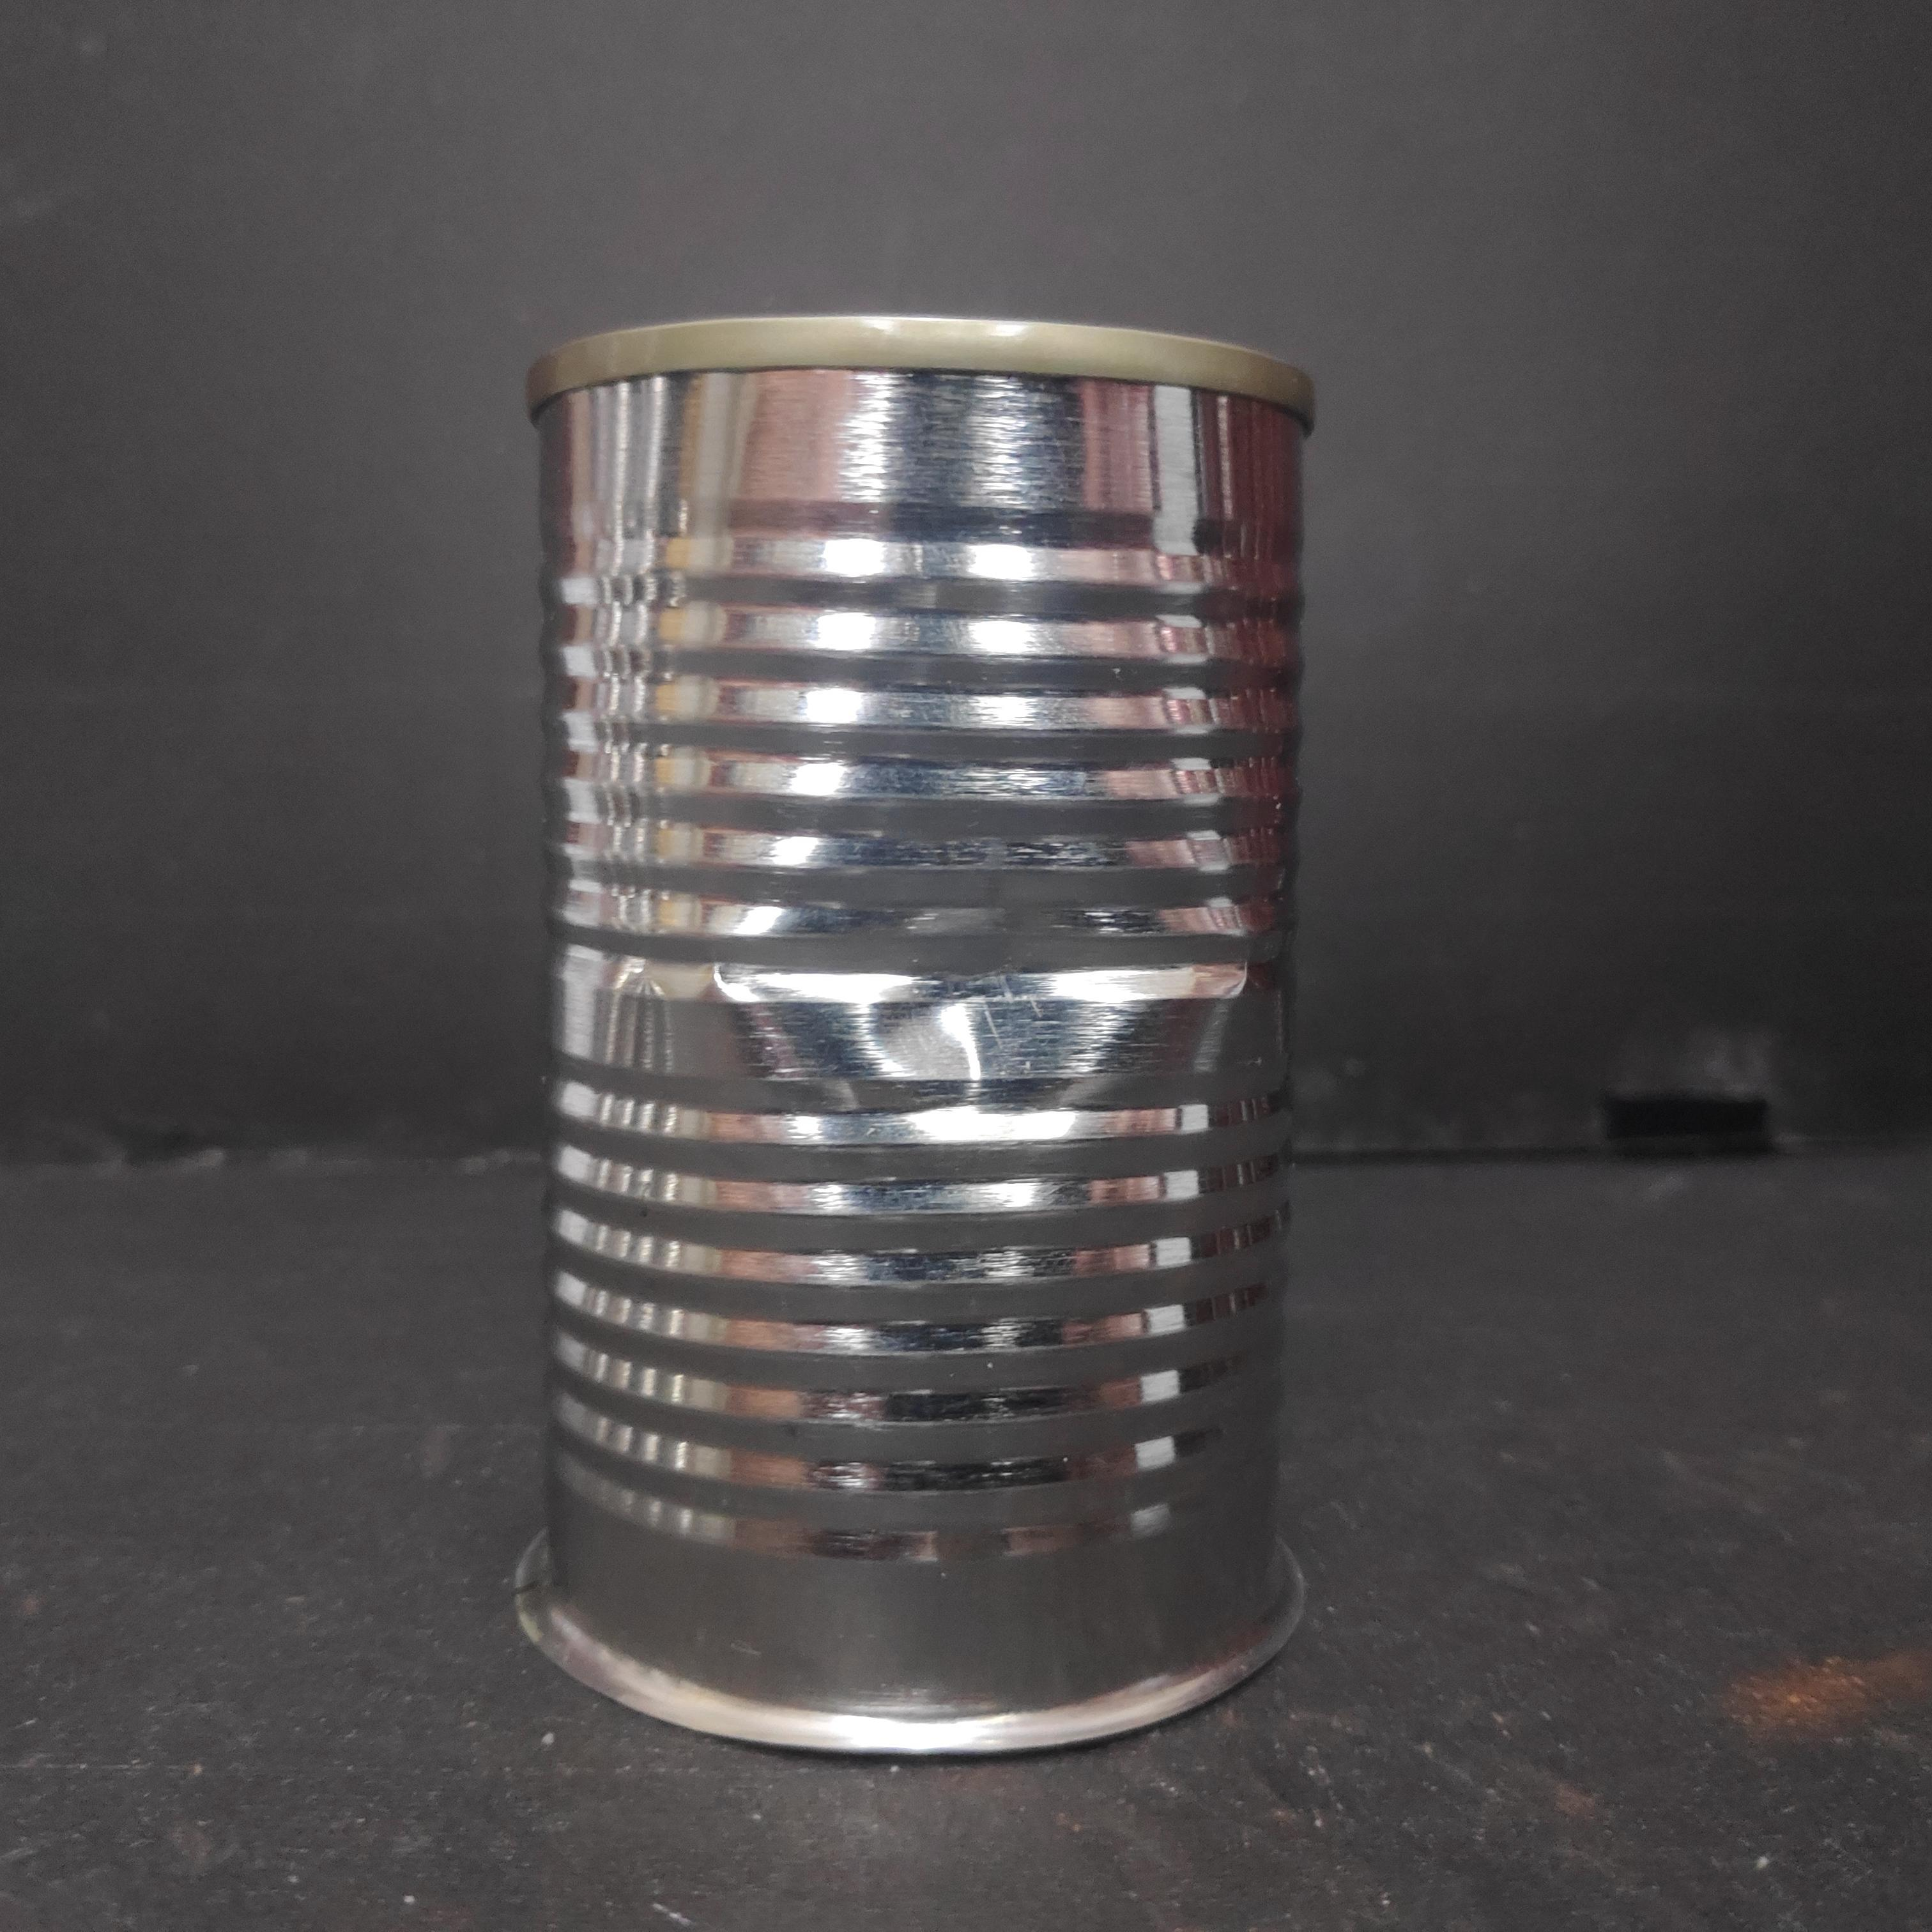Minor Defect: (515, 304, 1323, 1776)
